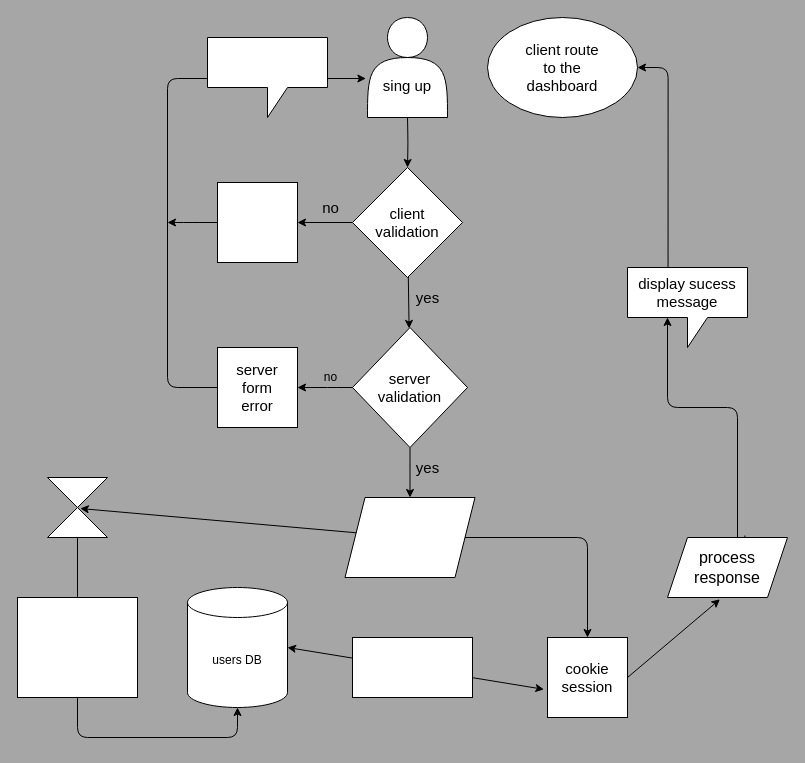
Image size: 805x763. Some labels were removed from this diagram. Each missing label, with the centre of its shape:
"account table: email, pass-hash theme, favorities" belongs at (77,647).
"client form error" belongs at (257,222).
"display error message" belongs at (267,77).
"session table: email, pass-hash" belongs at (412,667).
"User data and preferencies" belongs at (409,537).
